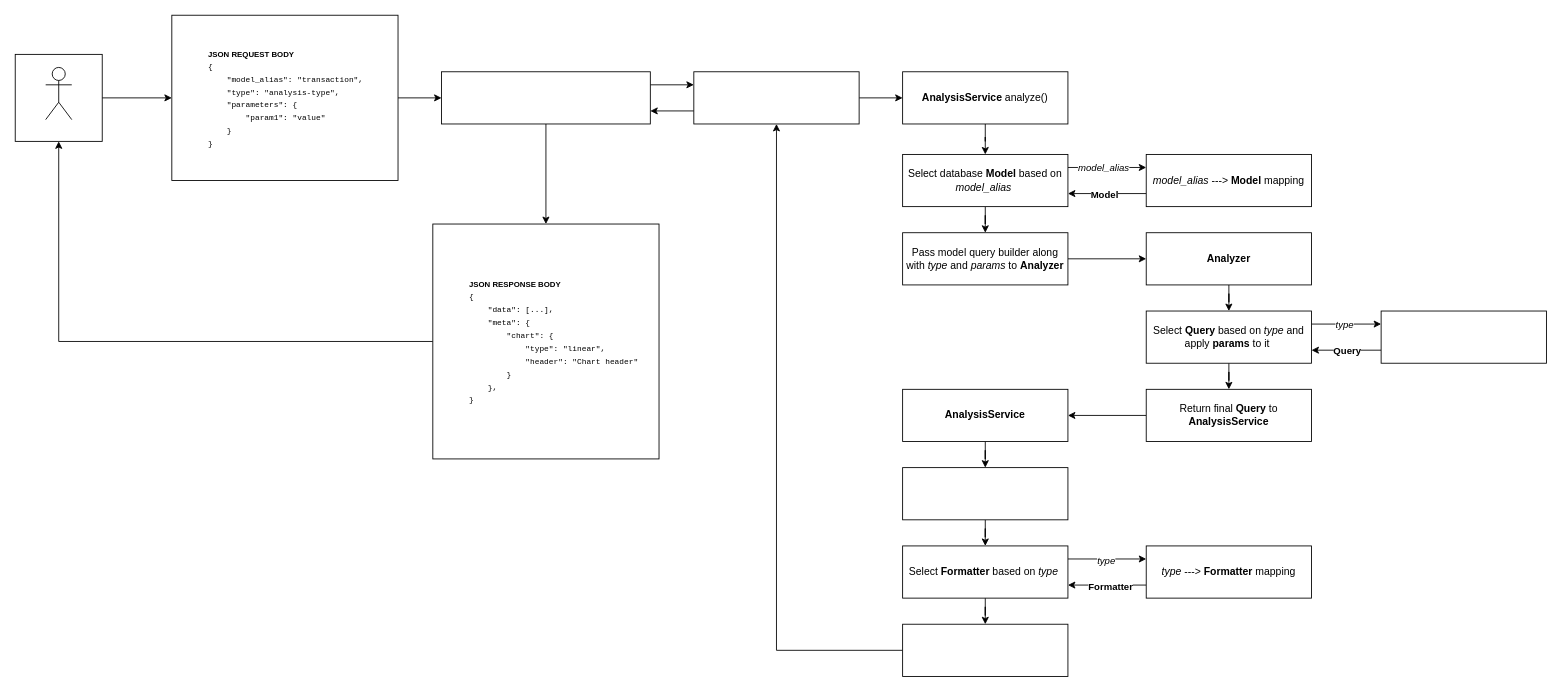
Some shapes in this 1562 by 692 pixel diagram are drawn without their labels. The shapes that lost their labels are listed below. From the top down, each one's box as (x1, y1, x2, y2) in pixels, then its label:
(45, 67, 72, 120): User
(441, 71, 650, 124): POST /api/analysis
(693, 71, 859, 124): AnalysisController analyze()
(1380, 310, 1546, 363): type ---> Query mapping
(902, 467, 1068, 520): Run Query and save result to variable
(902, 623, 1068, 676): Pass result through Formatter
